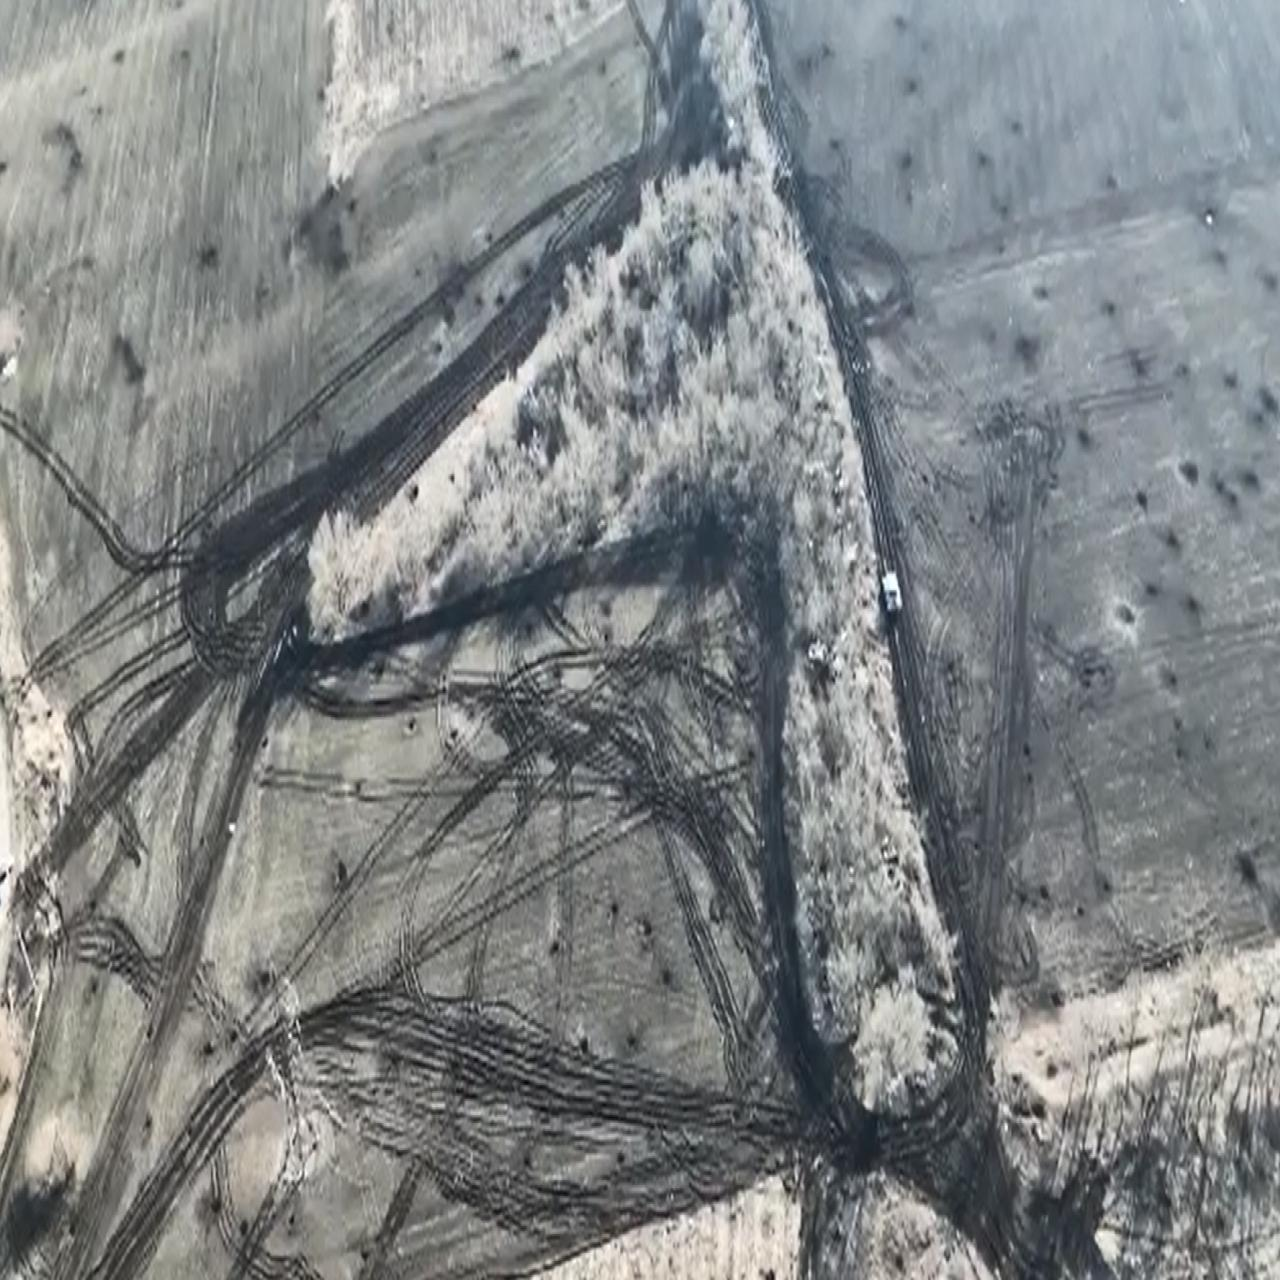MIL_Veh: (874, 552, 904, 625)
